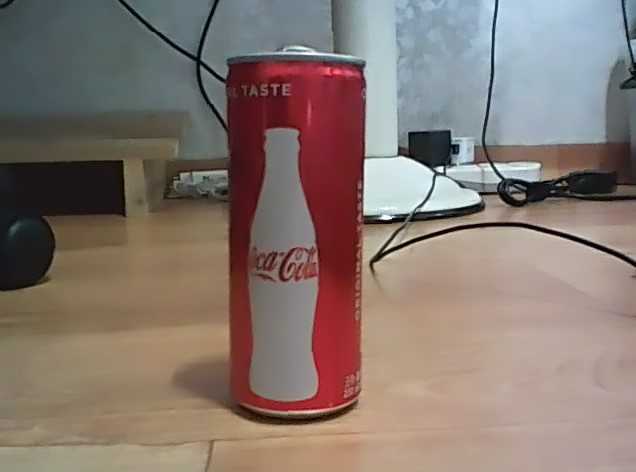Can: (218, 45, 369, 426)
